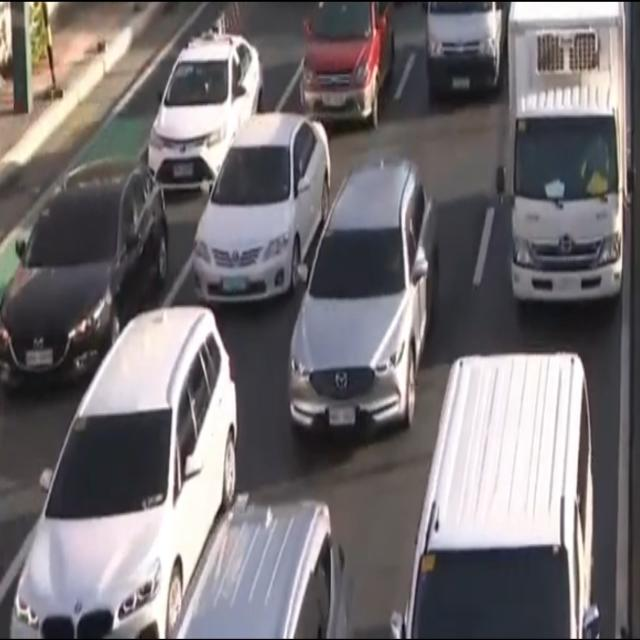SUV: (7, 302, 238, 640), (285, 166, 439, 435)
Sedan: (0, 167, 172, 381), (197, 111, 328, 307), (145, 35, 267, 192)
Truck: (500, 0, 640, 319)
Van: (387, 347, 602, 640), (422, 0, 501, 108)
